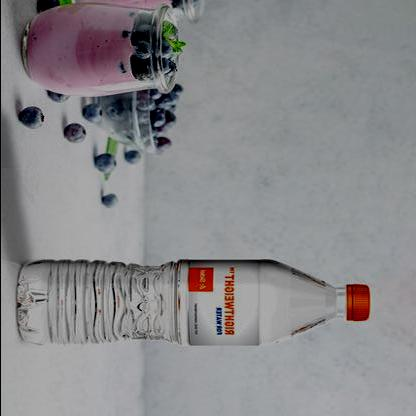bottle: (13, 254, 372, 350)
